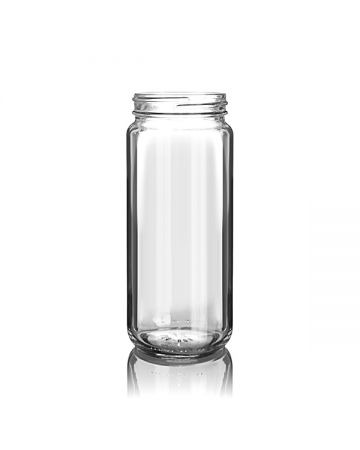container: (121, 88, 236, 365)
